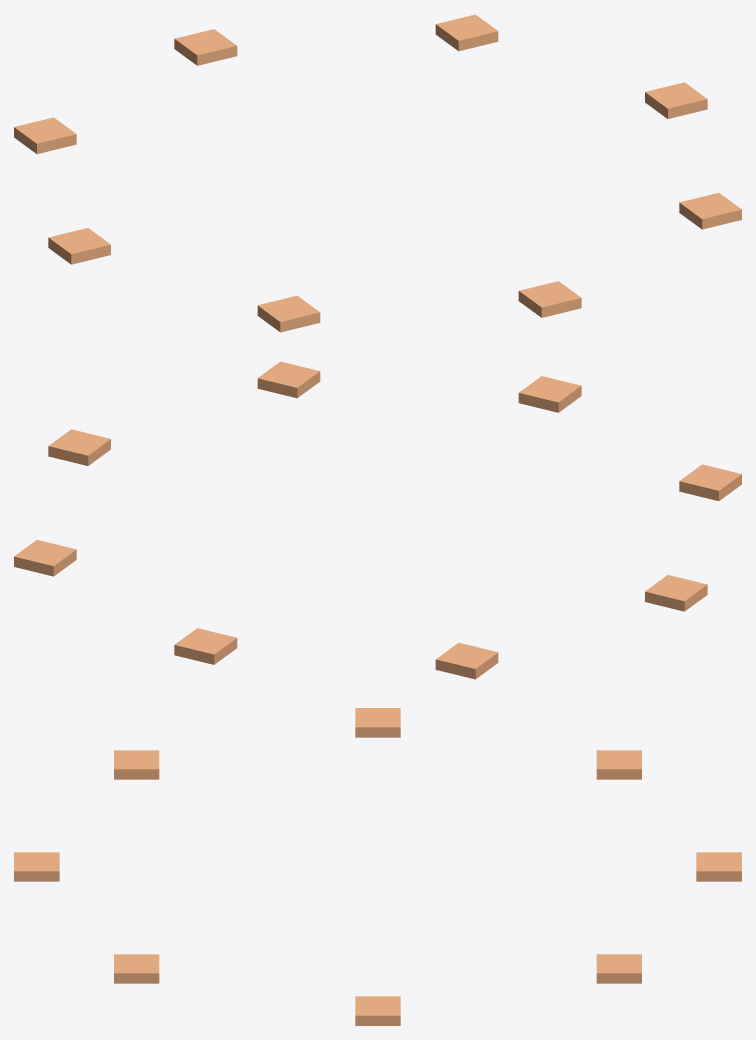
File: board.glb
The picture shows the model from 3 angles, top to bottom: view 1: azimuth 30°, elevation 25°; view 2: azimuth 150°, elevation 25°; view 3: azimuth 270°, elevation 25°; orthographic projection.
Parts seen in each view (by area): view 1: Copper_Net1_Contour6, Copper_Net1_Contour1, Copper_Net1_Contour7, Copper_Net1_Contour0, Copper_Net1_Contour2, Copper_Net1_Contour4, Copper_Net1_Contour5, Copper_Net1_Contour3; view 2: Copper_Net1_Contour2, Copper_Net1_Contour5, Copper_Net1_Contour7, Copper_Net1_Contour0, Copper_Net1_Contour3, Copper_Net1_Contour6, Copper_Net1_Contour1, Copper_Net1_Contour4; view 3: Copper_Net1_Contour2, Copper_Net1_Contour3, Copper_Net1_Contour6, Copper_Net1_Contour0, Copper_Net1_Contour4, Copper_Net1_Contour5, Copper_Net1_Contour1, Copper_Net1_Contour7.
Boxes of the visible parts, x1,y1,x2,y2 form: Copper_Net1_Contour6: (435, 14, 498, 51); Copper_Net1_Contour1: (257, 295, 320, 332); Copper_Net1_Contour7: (174, 29, 237, 65); Copper_Net1_Contour0: (518, 281, 581, 317); Copper_Net1_Contour2: (679, 193, 741, 229); Copper_Net1_Contour4: (645, 82, 707, 118); Copper_Net1_Contour5: (14, 117, 76, 153); Copper_Net1_Contour3: (48, 228, 110, 264); Copper_Net1_Contour2: (257, 361, 320, 398); Copper_Net1_Contour5: (435, 642, 498, 679); Copper_Net1_Contour7: (174, 628, 237, 664); Copper_Net1_Contour0: (518, 376, 581, 412); Copper_Net1_Contour3: (645, 575, 707, 611); Copper_Net1_Contour6: (14, 540, 76, 576); Copper_Net1_Contour1: (679, 464, 741, 500); Copper_Net1_Contour4: (48, 429, 110, 465); Copper_Net1_Contour2: (114, 954, 159, 983); Copper_Net1_Contour3: (355, 708, 400, 737); Copper_Net1_Contour6: (596, 954, 641, 983); Copper_Net1_Contour0: (14, 852, 59, 881); Copper_Net1_Contour4: (355, 996, 400, 1025); Copper_Net1_Contour5: (596, 750, 641, 779); Copper_Net1_Contour1: (114, 750, 159, 779); Copper_Net1_Contour7: (696, 852, 741, 881).
Bounding box in the file's own units: 6.4e-05 × 1e-06 × 6.4e-05.
